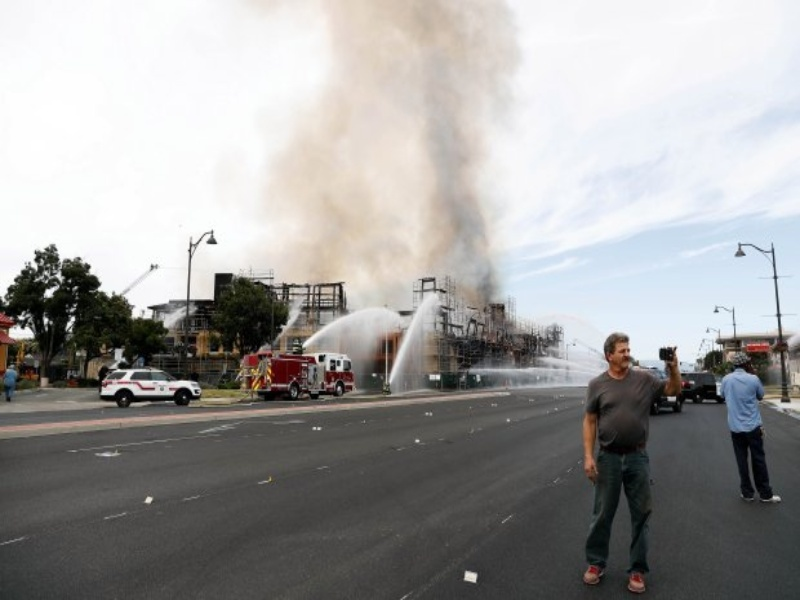smoke: (312, 1, 496, 274)
